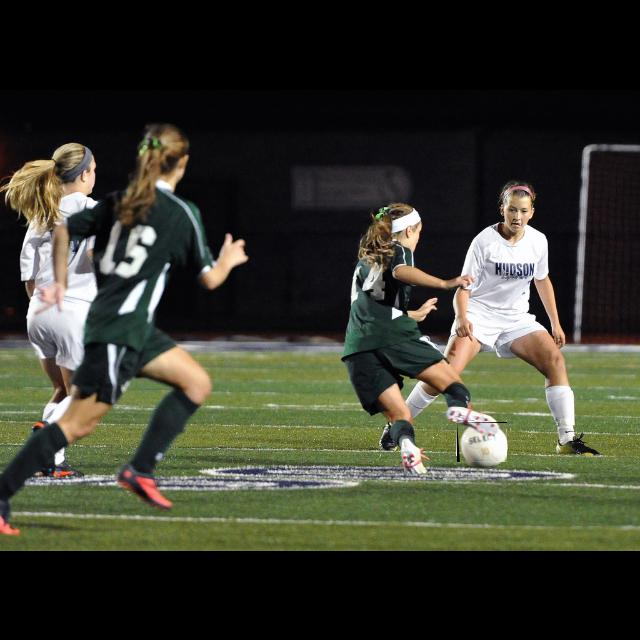Football: (457, 422, 507, 462)
